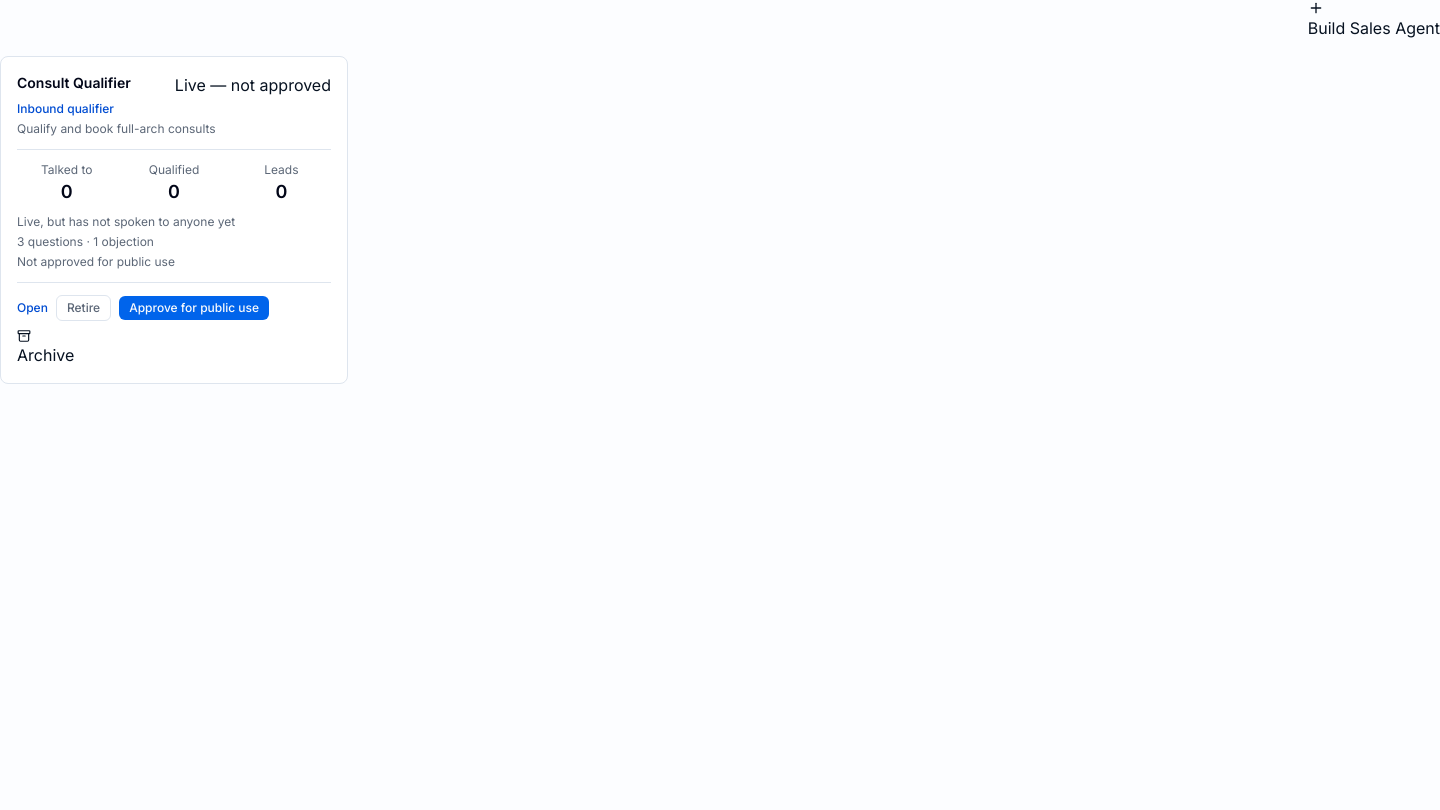
Test case: opening an agent › says why the conversation list is empty rather than implying failure
Click the button "Open": (32,308) [17,300,48,316]
(page scrolled)
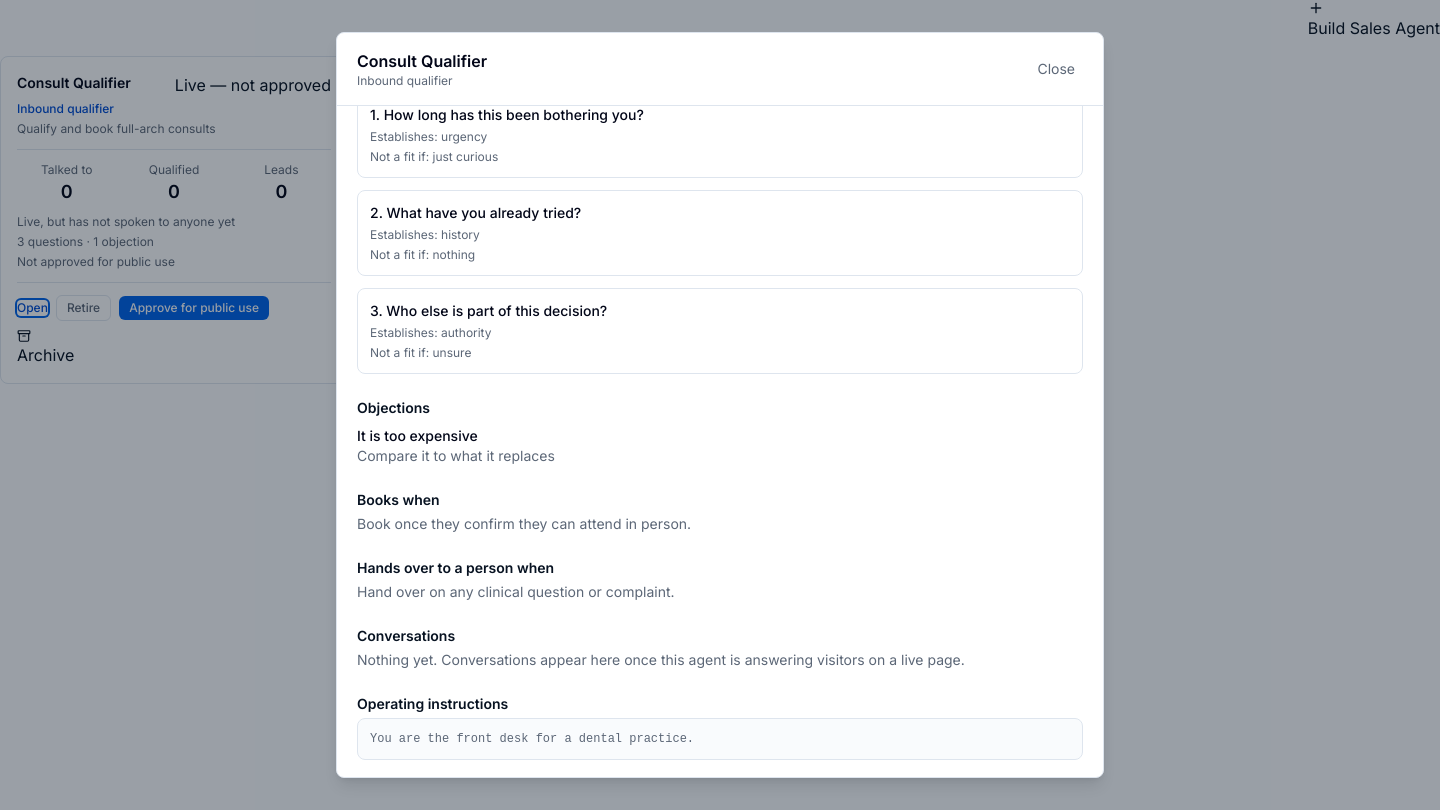
Expected: the text "once this agent is answering visitors" is shown, [357,651,965,668]
